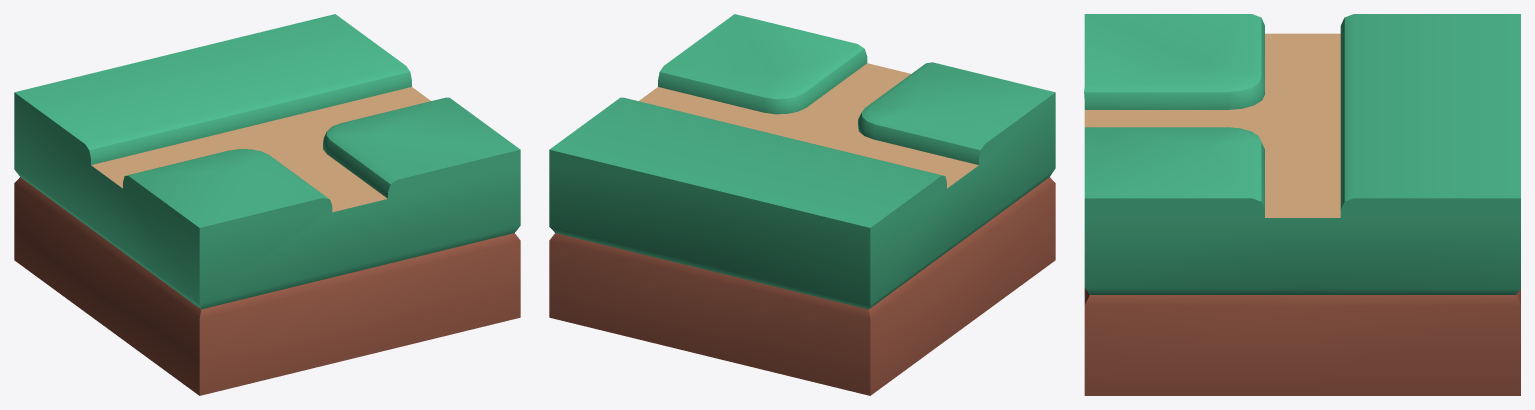
File: kaykit-square-forest-roadd-detail.glb
3 views of the same model, side by side, from view 1: azimuth 30°, elevation 25°; view 2: azimuth 150°, elevation 25°; view 3: azimuth 270°, elevation 25° (orthographic). The views are drawn at different scales.
Parts seen in each view (by area): view 1: square_forest_roadD_detail; view 2: square_forest_roadD_detail; view 3: square_forest_roadD_detail.
Boxes of the visible parts, x1,y1,x2,y2 form: square_forest_roadD_detail: (14,14,520,395); square_forest_roadD_detail: (549,14,1055,395); square_forest_roadD_detail: (1084,14,1520,395).
Bounding box in the file's own units: 2 × 1 × 2.
